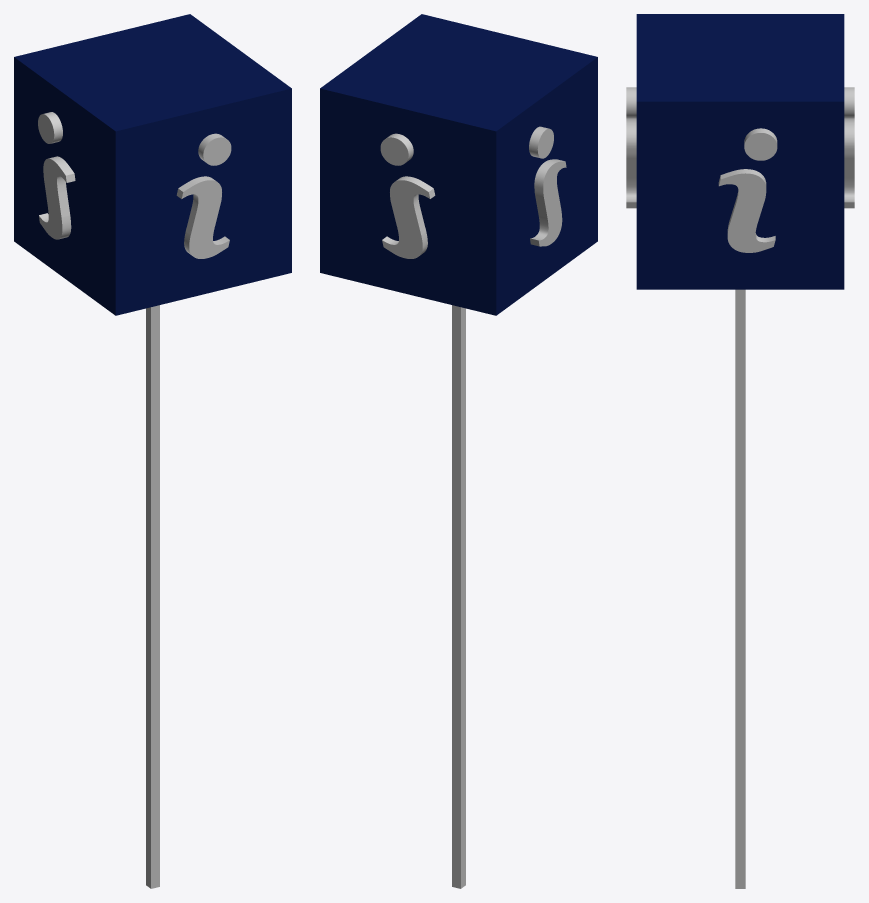
Rendered from information.obj.
3 views of the same model, side by side, from view 1: azimuth 30°, elevation 25°; view 2: azimuth 150°, elevation 25°; view 3: azimuth 270°, elevation 25° (orthographic).
Bounding box in the file's own units: 2.2 × 8.82 × 2.2.
